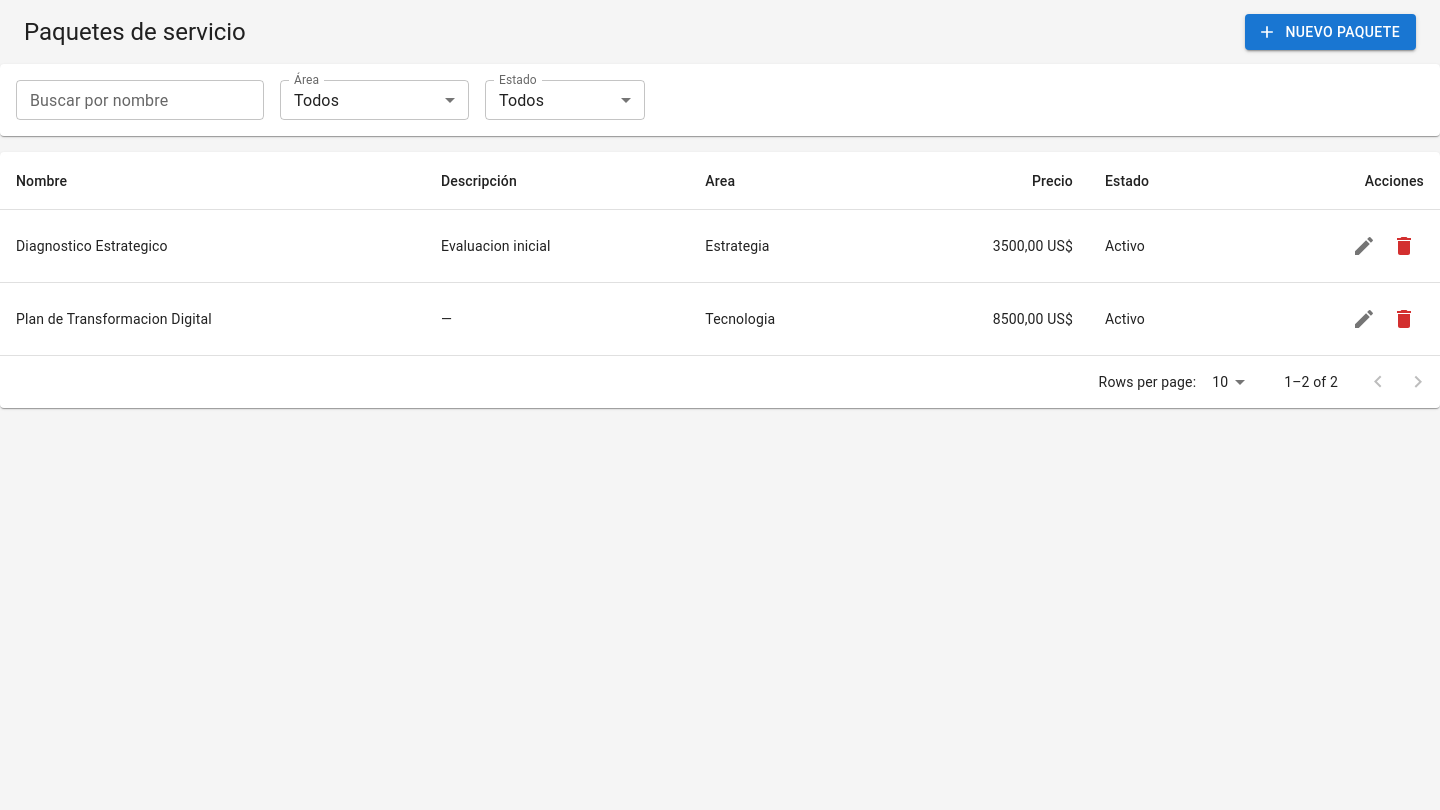
Test case: PaquetesPage › shows a success toast after creating a paquete
Expected: the text "Diagnostico Estrategico" is shown, x1=0 y1=210 x2=425 y2=283
Click the button "Nuevo paquete": (1331, 32) x1=1246 y1=14 x2=1416 y2=50
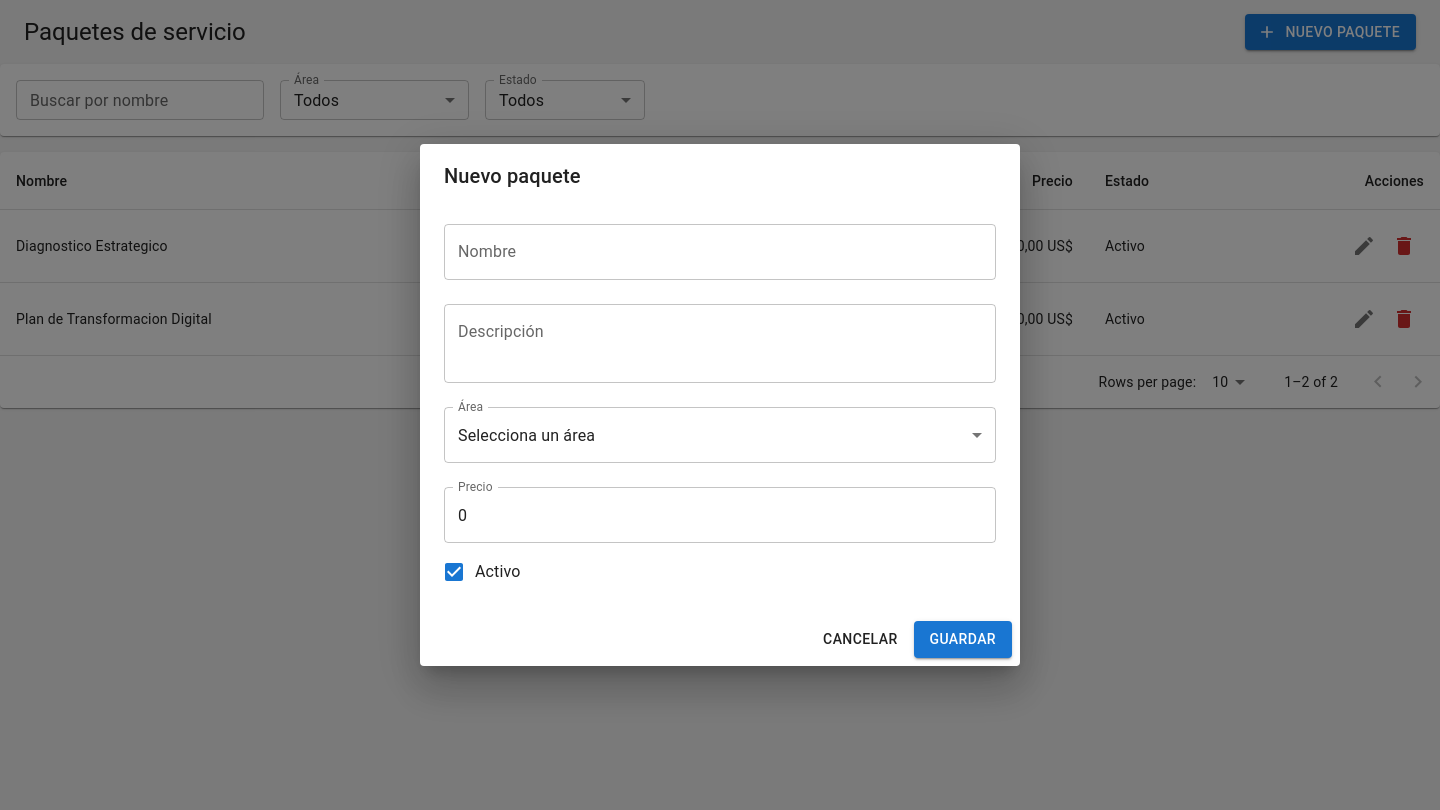
In the field labelled "Nombre": (720, 252) x1=444 y1=224 x2=996 y2=280, type "Paquete Nuevo"
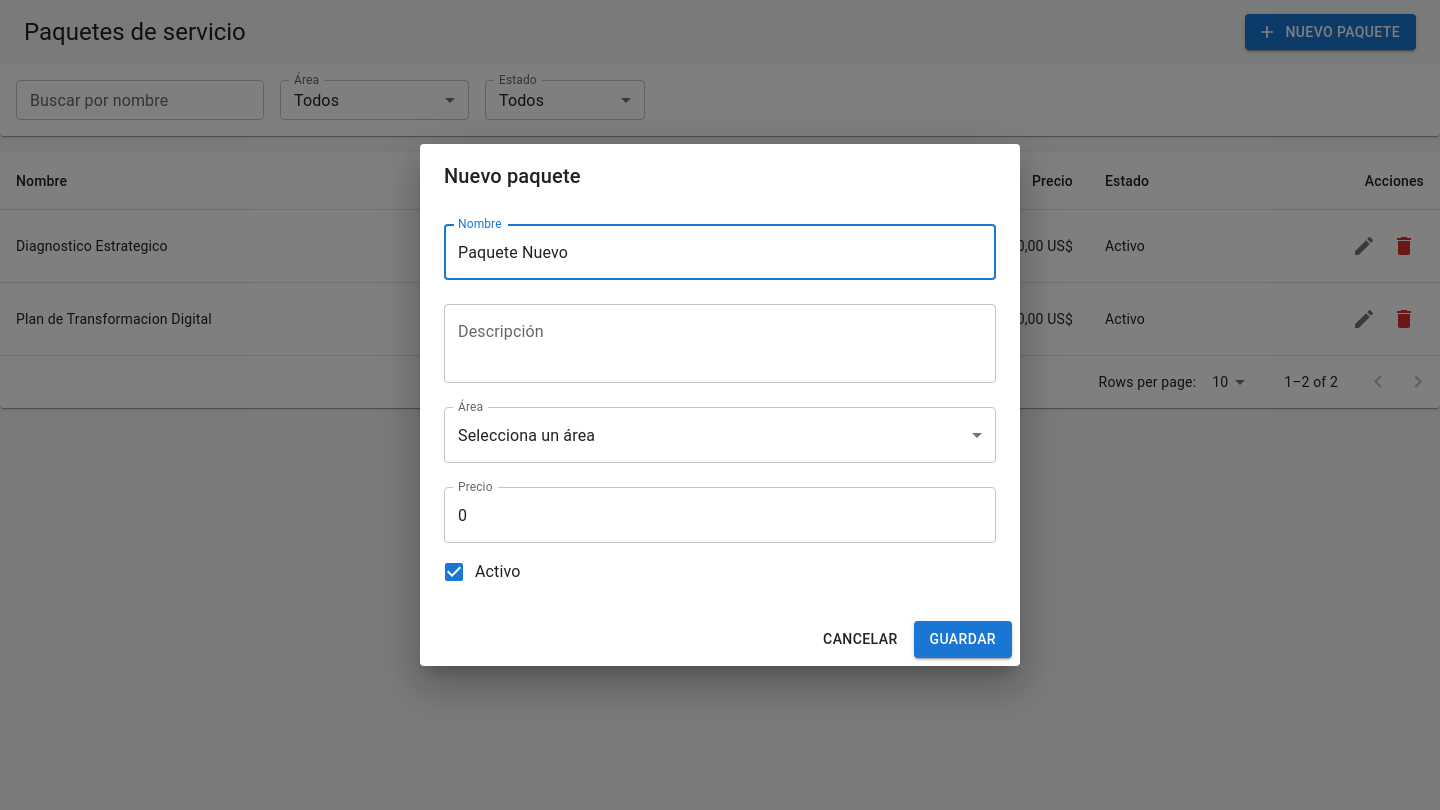
Select "Finanzas" in the dropdown labelled "Área": (720, 435) x1=444 y1=407 x2=996 y2=463
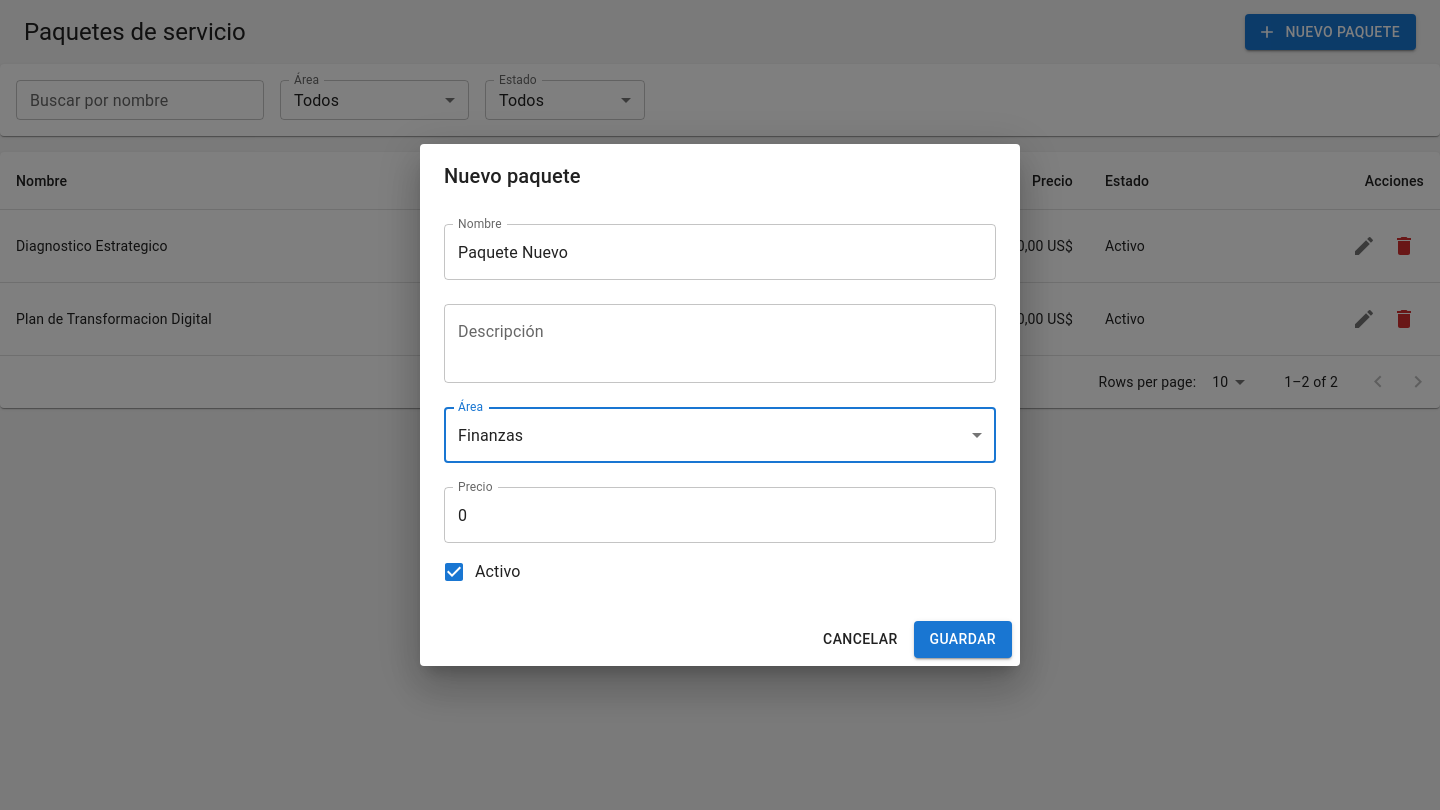
Click the button "Guardar": (963, 640) x1=914 y1=621 x2=1012 y2=658
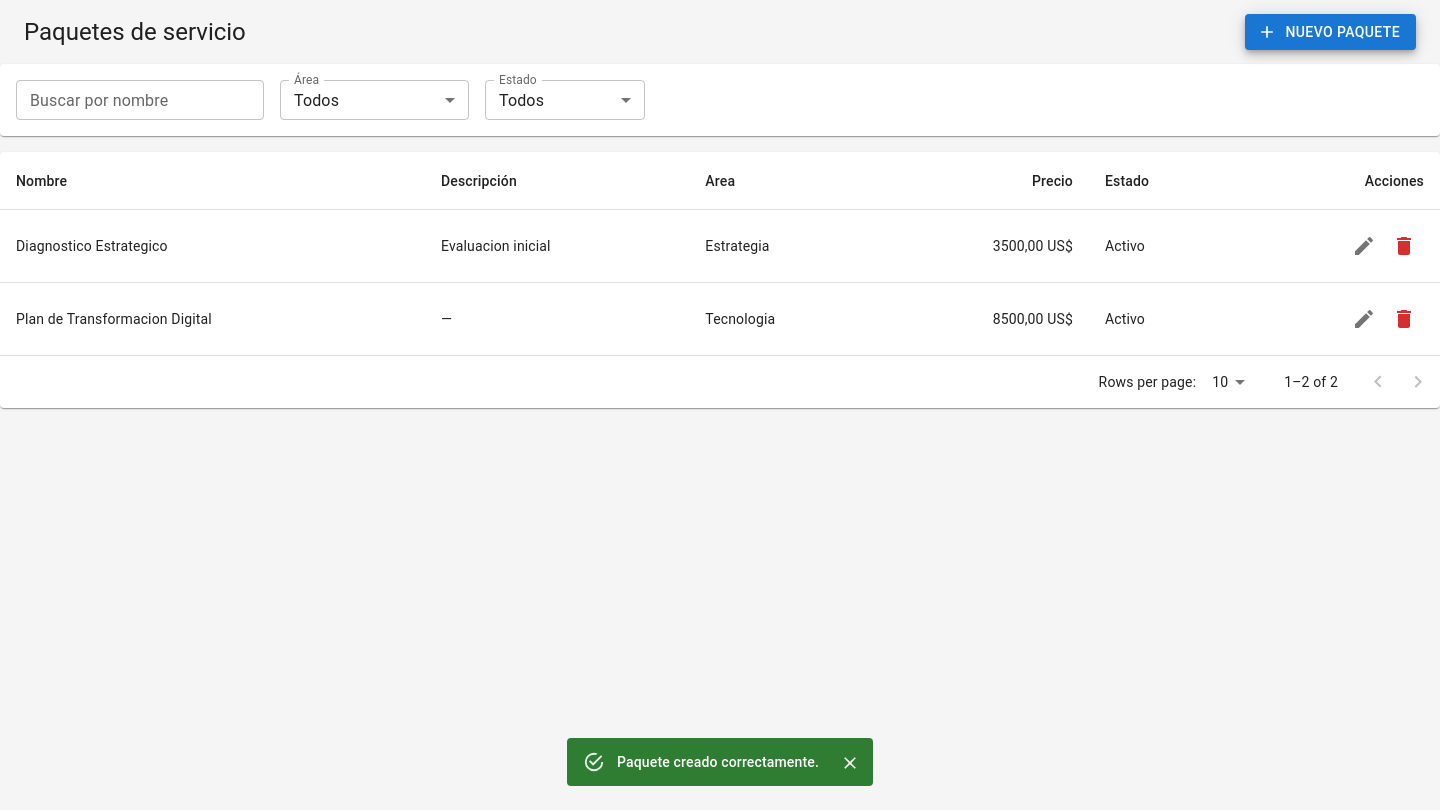
Expected: the text "Paquete creado correctamente." is shown, x1=617 y1=754 x2=819 y2=770
